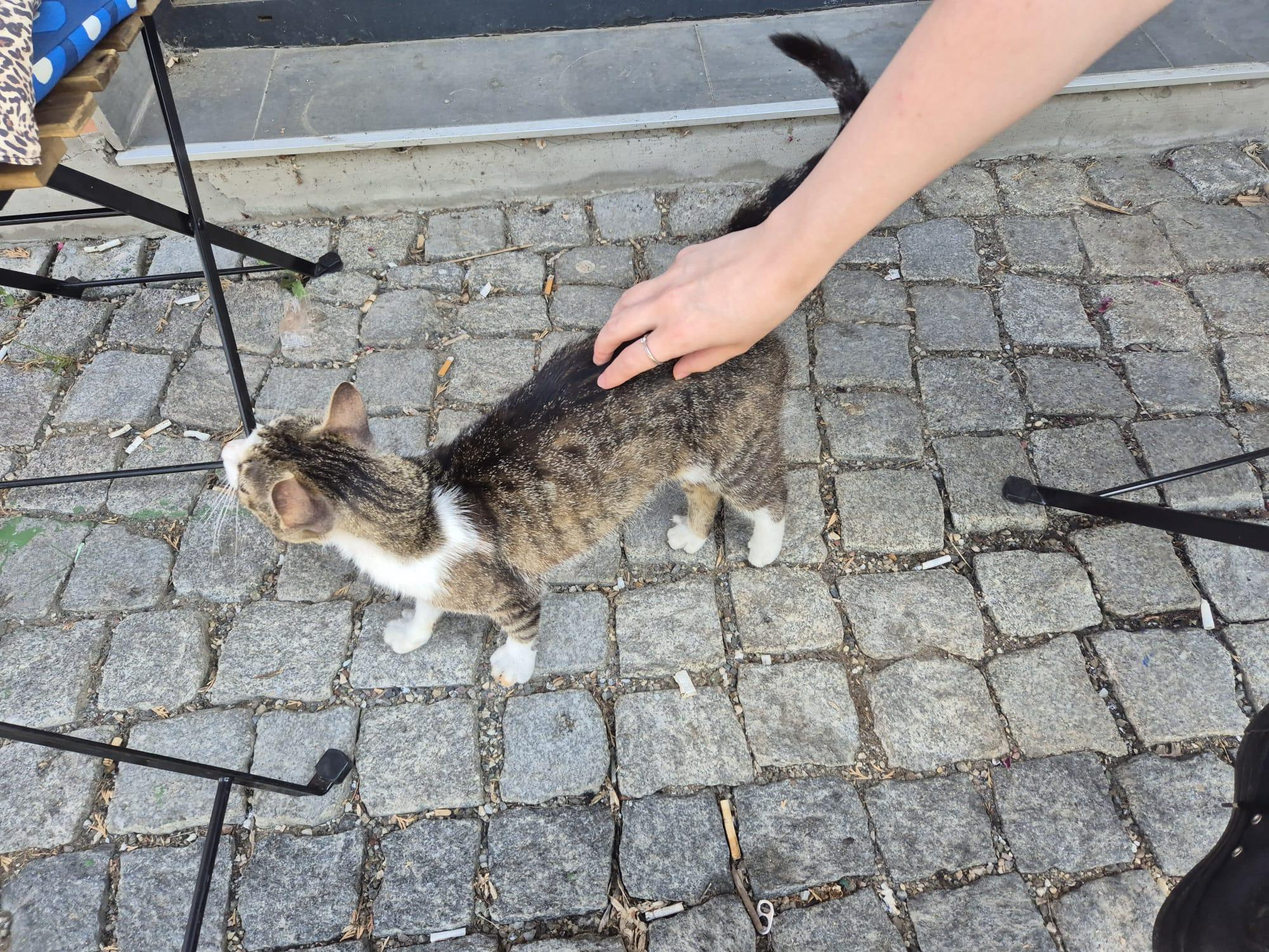macka: (219, 35, 876, 686)
